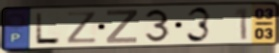1: (233, 6, 249, 42)
3: (184, 6, 218, 44), (142, 7, 172, 45)
L: (34, 12, 63, 46)
Z: (105, 9, 140, 45), (65, 10, 100, 45)
